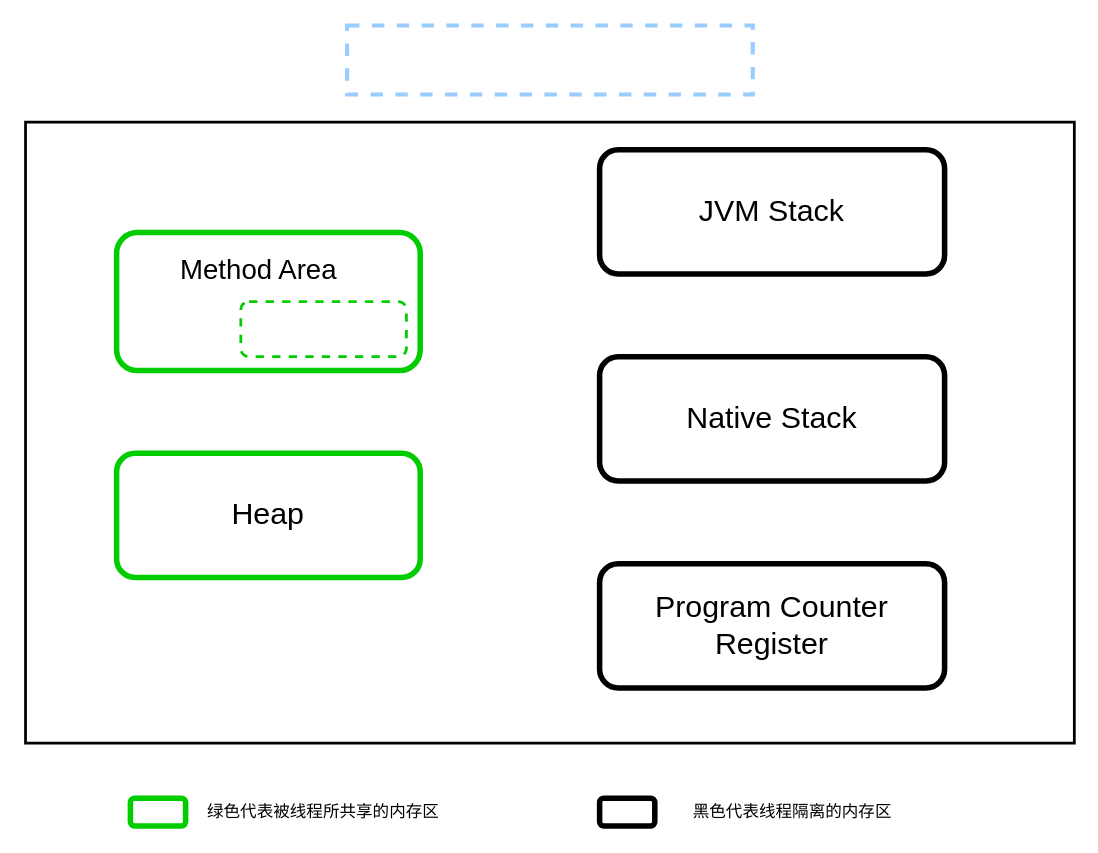
Image size: 1098x853. Some labels were removed from this diagram. Each missing label, with the centre of its shape:
"Runtime constant pool" belongs at (323,328).
"Runtime Data Area" belongs at (549,59).
